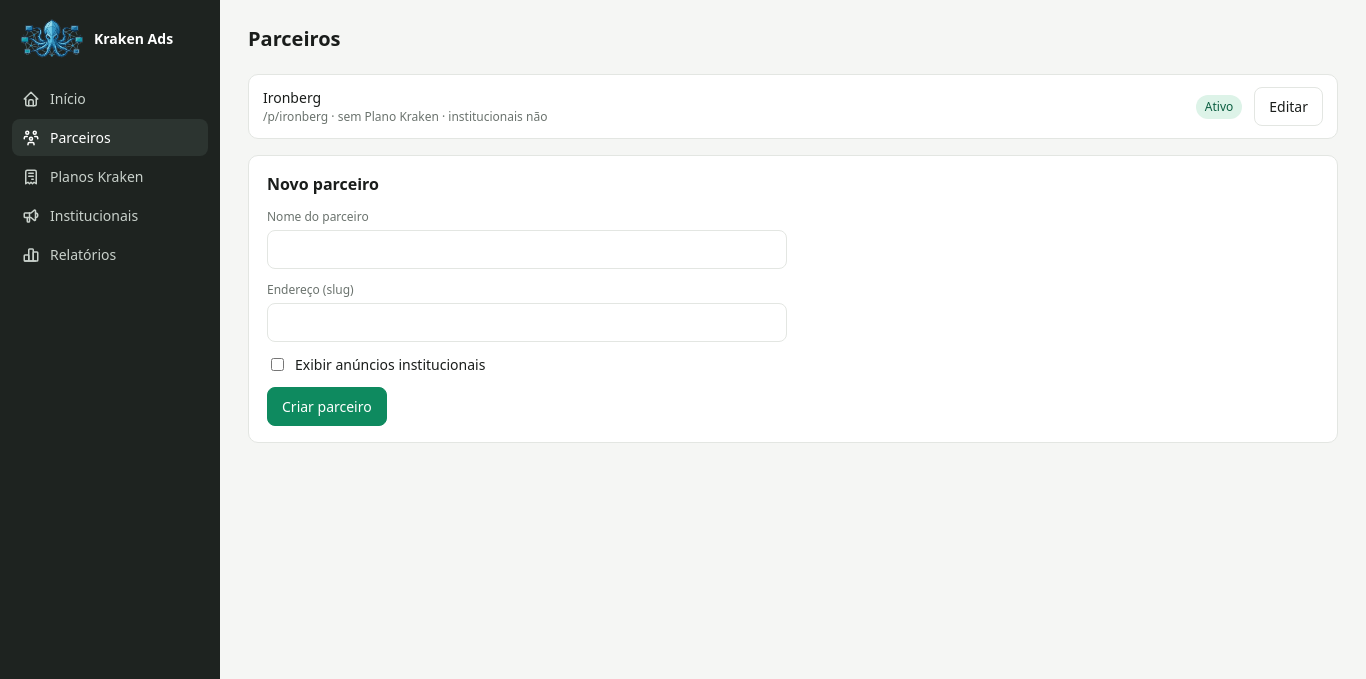
Scenario: Kraken plans screen › assigns a Kraken plan in the partner editor
The image size is (1366, 679).
Click the button with aria-label "Editar Ironberg": (1289, 106) [1254, 87, 1323, 126]
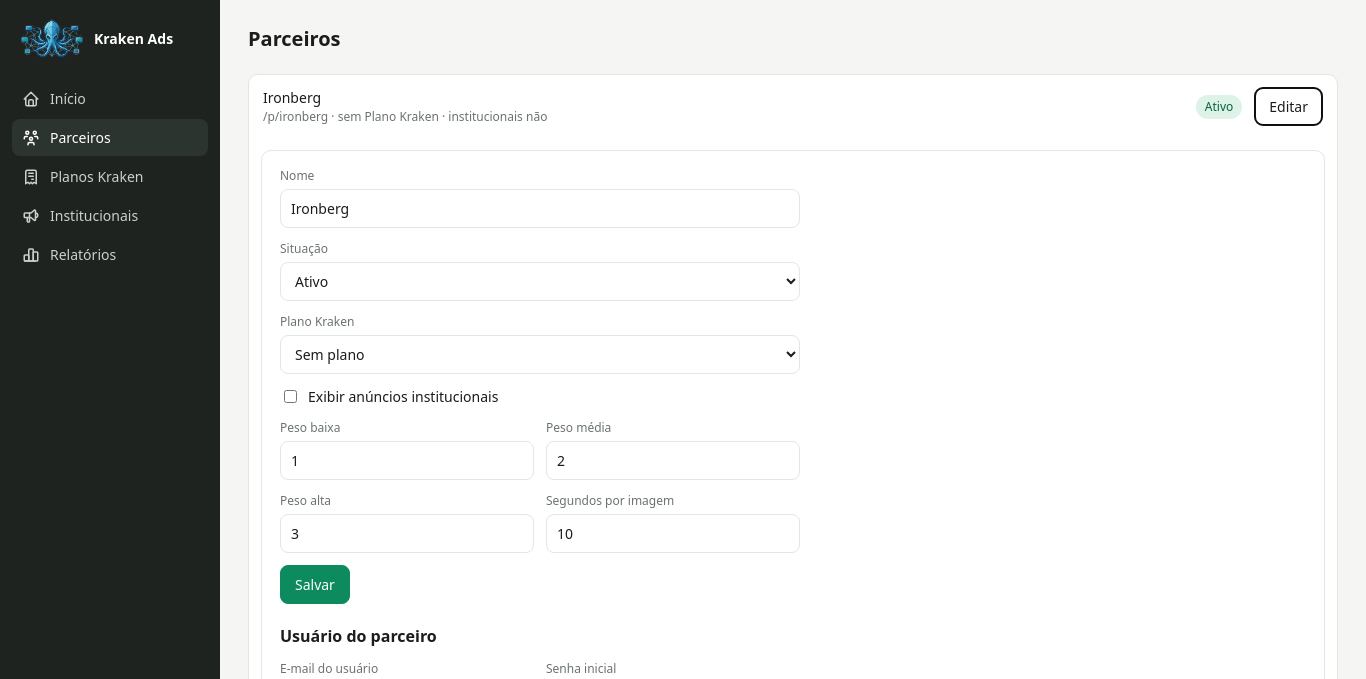
Select "Essencial" in the dropdown labelled "Plano Kraken": (540, 354) [280, 335, 800, 374]
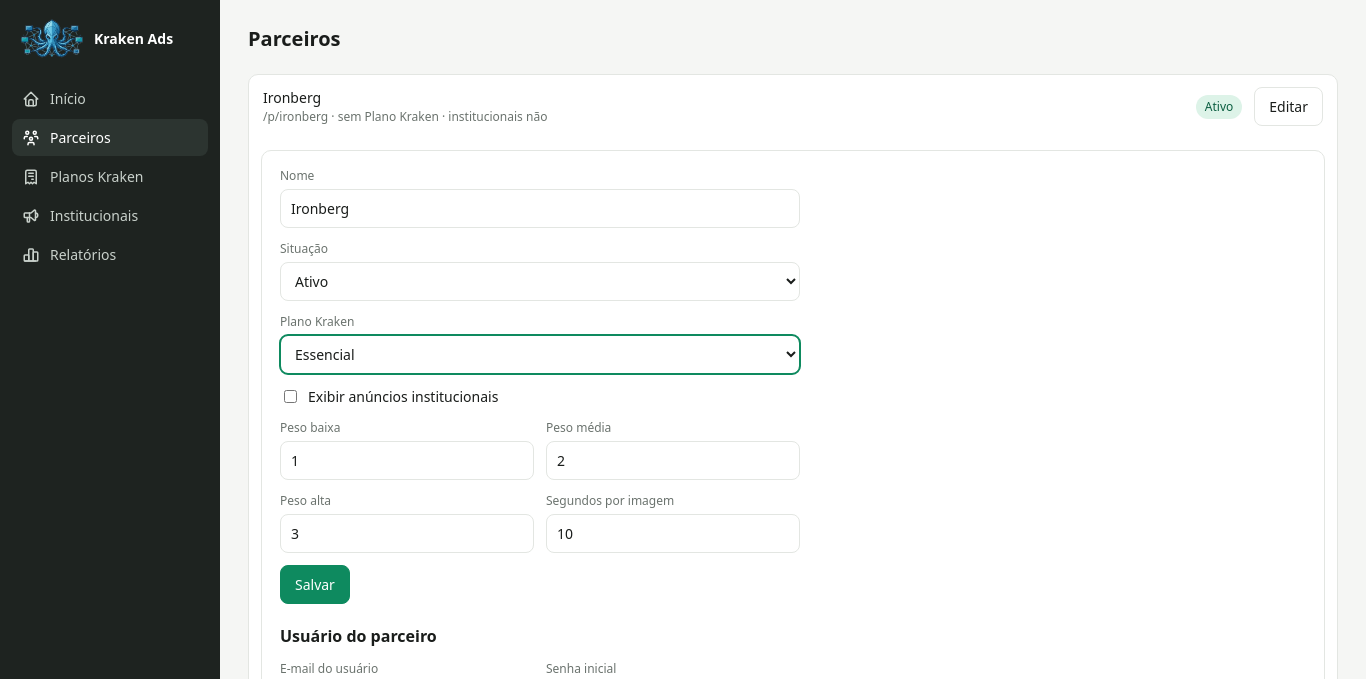
Click the button "Salvar": (315, 584) [280, 565, 350, 604]
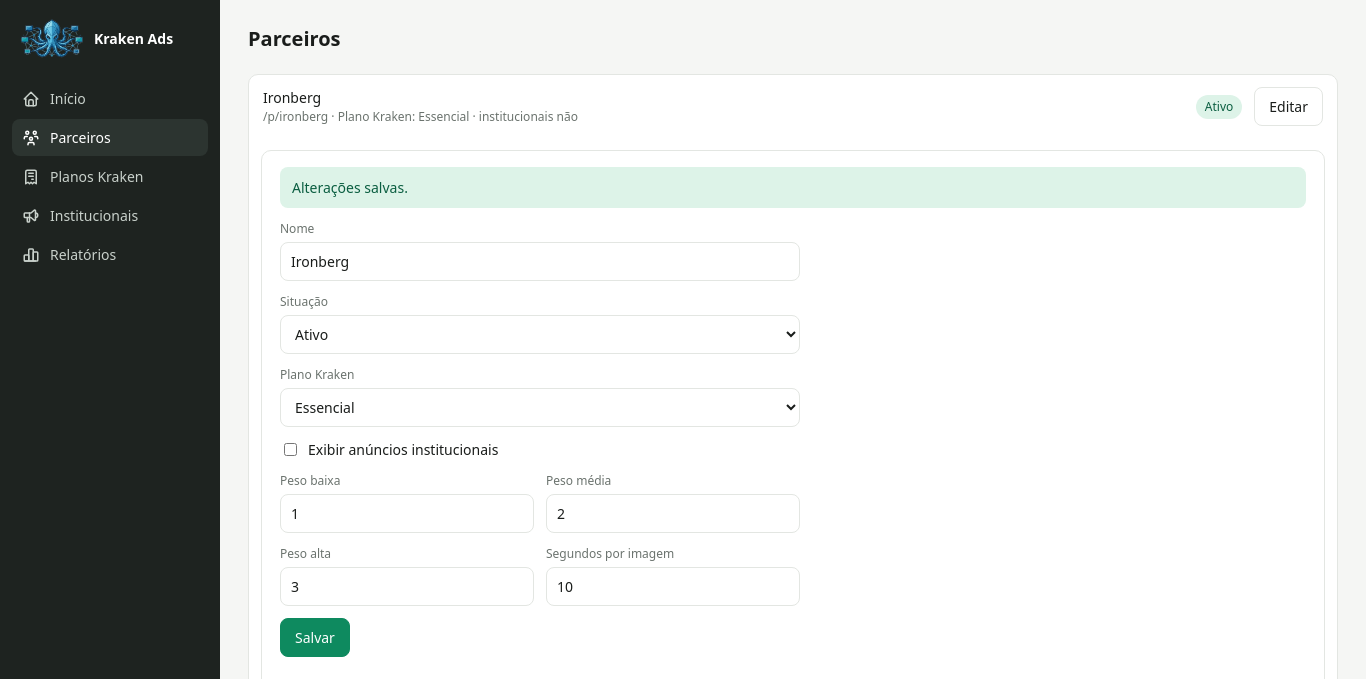
Check: the text "/p/ironberg · Plano Kraken: Essencial · institucionais não" is shown, box [263, 108, 578, 125]
